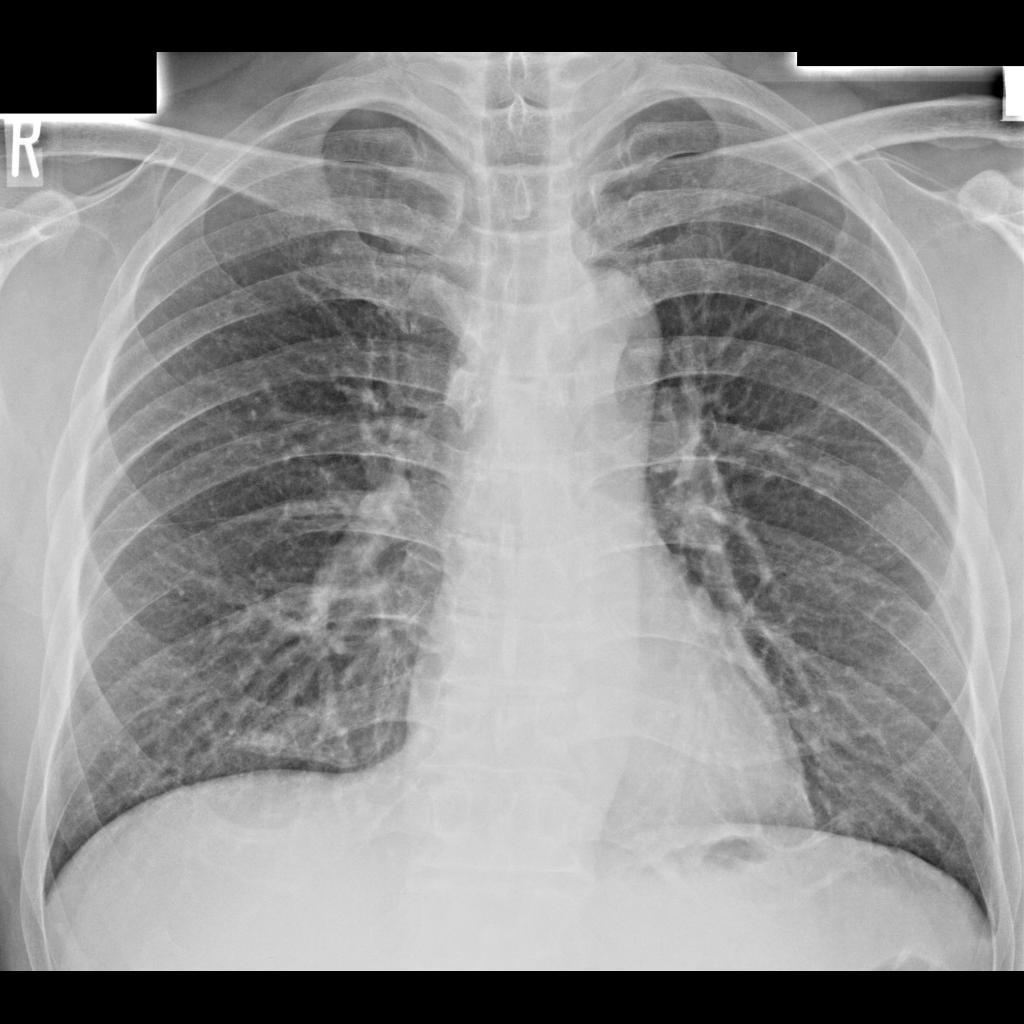Nodule: (803, 461, 840, 498)
